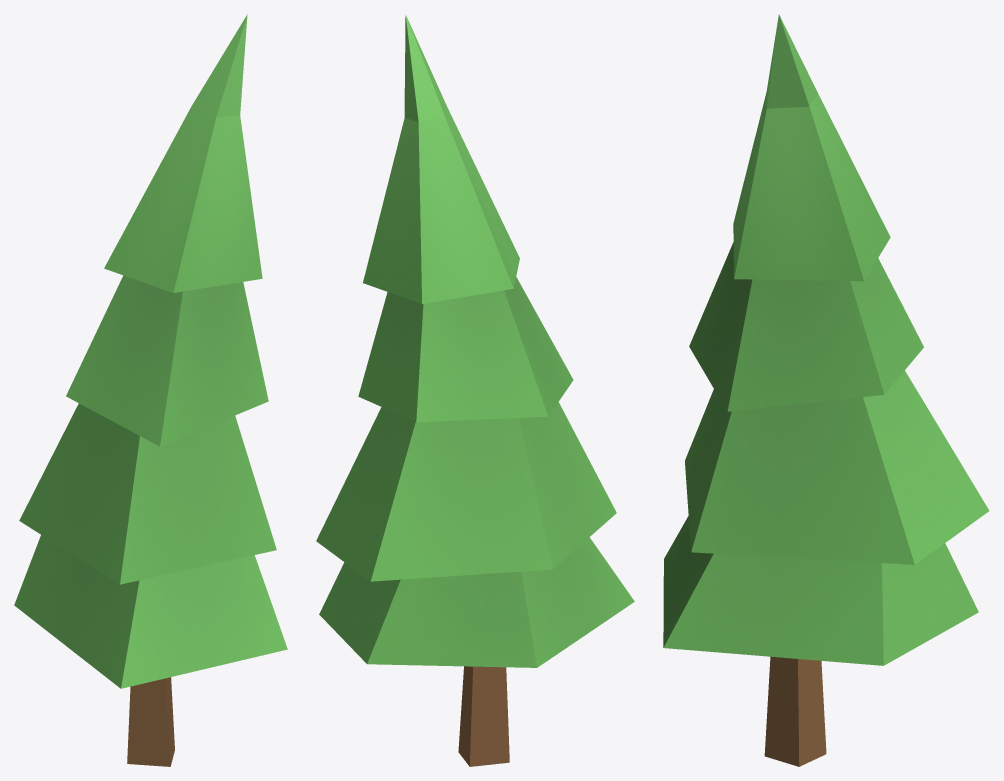
Rendered from Fir_Tree_OneSided_m_11_LOD.fbx.
3 renders of one model, left to right at view 1: azimuth 30°, elevation 25°; view 2: azimuth 150°, elevation 25°; view 3: azimuth 270°, elevation 25°, orthographic. The views are drawn at different scales.
Visible parts, largest first — view 1: Fir_Tree_OneSided_m_11_LOD0; view 2: Fir_Tree_OneSided_m_11_LOD0; view 3: Fir_Tree_OneSided_m_11_LOD0.
Boxes of the visible parts, <box> form: Fir_Tree_OneSided_m_11_LOD0: <box>14,14,287,766</box>; Fir_Tree_OneSided_m_11_LOD0: <box>316,15,634,766</box>; Fir_Tree_OneSided_m_11_LOD0: <box>663,14,989,766</box>.
Size of what is drawn, in the model's own units: 146 by 444 by 167.
